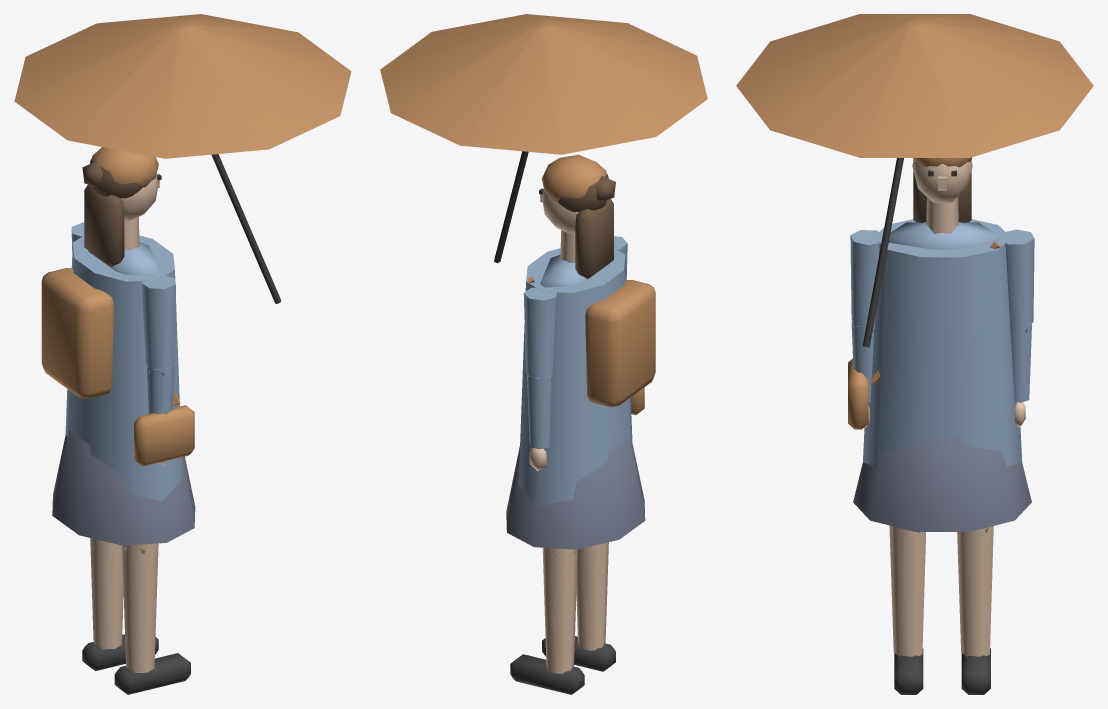
The model's file is person_dress.glb.
The picture shows the model from 3 angles, left to right: view 1: azimuth 30°, elevation 25°; view 2: azimuth 150°, elevation 25°; view 3: azimuth 270°, elevation 25°; orthographic projection. The views are drawn at different scales.
Parts seen in each view (by area): view 1: person_dress; view 2: person_dress; view 3: person_dress.
Part boxes in pixels (x1,y1,x2,y2): person_dress: (14,14,351,694); person_dress: (380,14,707,694); person_dress: (736,14,1093,694).
Size of the model in its own units: 0.9891 by 2.16 by 1.04.
